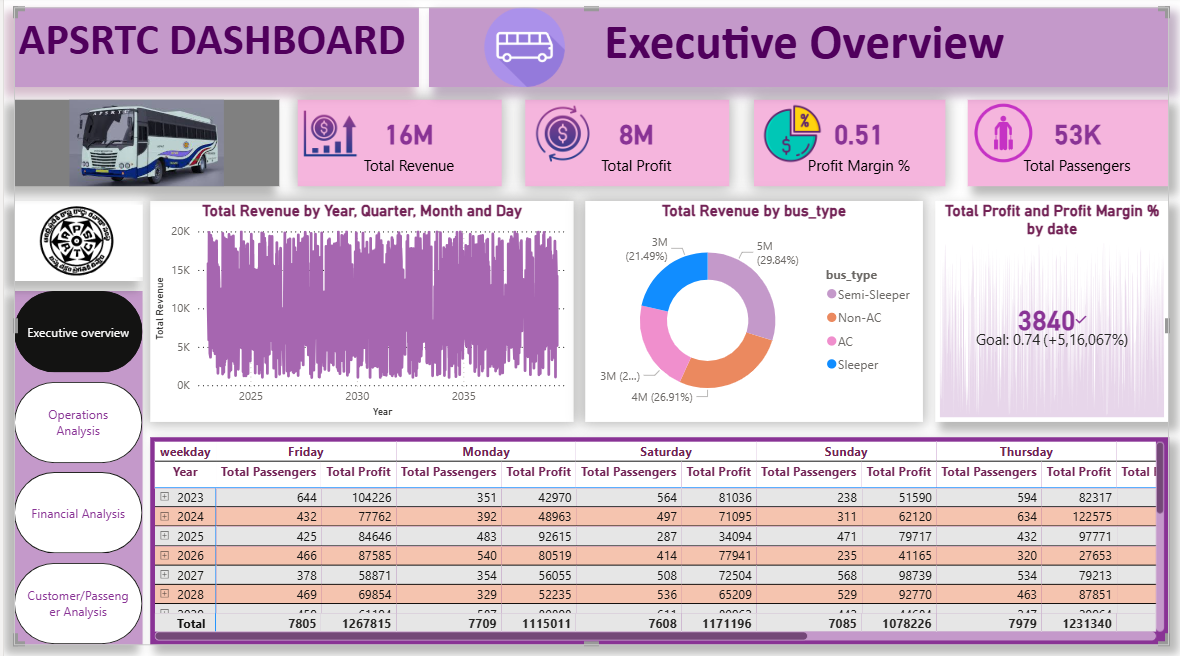

This screenshot's page, from the dashboard's own definition file:
{"tool":"powerbi","page":{"name":"Executive overview","canvas":[1280,720],"ordinal":0},"visuals":[{"type":"card","fields":{"Values":["fact_trips.Total Passengers"]},"box":[1044,112.3,216.5,93.4],"z":0,"group":"g1"},{"type":"card","fields":{"Values":["fact_trips.Total Revenue"]},"box":[318,112.3,220.6,93.4],"z":1000,"group":"g1"},{"type":"card","fields":{"Values":["fact_trips.Total Profit"]},"box":[564.3,112.3,220.6,93.4],"z":2000,"group":"g1"},{"type":"card","fields":{"Values":["fact_trips.Profit Margin %"]},"box":[812,112.3,207.1,93.4],"z":3000,"group":"g1"},{"type":"lineChart","fields":{"Category":["dim_dates.date.Variation.Date Hierarchy.Year","dim_dates.date.Variation.Date Hierarchy.Quarter","dim_dates.date.Variation.Date Hierarchy.Month","dim_dates.date.Variation.Date Hierarchy.Day"],"Y":["fact_trips.Total Revenue"]},"box":[158.3,222,458.8,239.5],"z":4000,"group":"g1"},{"type":"donutChart","fields":{"Category":["dim_buses.bus_type"],"Y":["fact_trips.Total Revenue"]},"box":[629.3,222,365.4,239.5],"z":5000,"group":"g1"},{"type":"kpi","fields":{"TrendLine":["dim_dates.date"],"Indicator":["fact_trips.Total Profit"],"Goal":["fact_trips.Profit Margin %"]},"box":[1008.2,222,253.1,239.5],"z":6000,"group":"g1"},{"type":"pivotTable","fields":{"Rows":["dim_dates.date.Variation.Date Hierarchy.Year","dim_dates.date.Variation.Date Hierarchy.Quarter","dim_dates.date.Variation.Date Hierarchy.Month","dim_dates.date.Variation.Date Hierarchy.Day"],"Columns":["dim_dates.weekday"],"Values":["fact_trips.Total Passengers","fact_trips.Total Profit"]},"box":[158.3,477.8,1103,224.7],"z":7000,"group":"g1"},{"type":"textbox","box":[460.1,12.2,801.2,86.6],"z":8000,"group":"g1"},{"type":"textbox","box":[10.8,12.2,438.5,86.6],"z":9000,"group":"g1"},{"type":"image","box":[10.8,112.3,286.9,93.4],"z":10000,"group":"g1"},{"type":"pageNavigator","box":[10.8,319.4,139.4,383],"z":11000,"group":"g1"},{"type":"image","box":[10.8,222,139.4,86.6],"z":12000,"group":"g1"},{"type":"image","box":[1044.8,112.3,74.4,71.7],"z":12001,"group":"g1"},{"type":"image","box":[812,117.8,82.6,62.3],"z":12002,"group":"g1"},{"type":"image","box":[569.7,117.8,70.4,62.3],"z":12003,"group":"g1"},{"type":"image","box":[318,117.8,70.4,62.3],"z":12004,"group":"g1"},{"type":"image","box":[508.8,12.2,109.6,86.6],"z":12005,"group":"g1"},{"type":"group","id":"g1","title":"Group 1","box":[10.8,12.2,1250.5,690.2],"z":12006}]}

Visuals, with their boxes in screenshot pixels (x1, y1, x2, y2), scaled from the page's 1280x720 canvas onto the 1180x656 screenshot:
card - fact_trips.Total Passengers: box(962, 102, 1162, 187)
card - fact_trips.Total Revenue: box(293, 102, 497, 187)
card - fact_trips.Total Profit: box(520, 102, 724, 187)
card - fact_trips.Profit Margin %: box(749, 102, 939, 187)
lineChart - dim_dates.date.Variation.Date Hierarchy.Year x dim_dates.date.Variation.Date Hierarchy.Quarter: box(146, 202, 569, 420)
donutChart - dim_buses.bus_type x fact_trips.Total Revenue: box(580, 202, 917, 420)
kpi - dim_dates.date x fact_trips.Total Profit: box(929, 202, 1163, 420)
pivotTable - dim_dates.date.Variation.Date Hierarchy.Year x dim_dates.date.Variation.Date Hierarchy.Quarter: box(146, 435, 1163, 640)
textbox: box(424, 11, 1163, 90)
textbox: box(10, 11, 414, 90)
image: box(10, 102, 274, 187)
pageNavigator: box(10, 291, 138, 640)
image: box(10, 202, 138, 281)
image: box(963, 102, 1032, 168)
image: box(749, 107, 825, 164)
image: box(525, 107, 590, 164)
image: box(293, 107, 358, 164)
image: box(469, 11, 570, 90)
"Group 1" group: box(10, 11, 1163, 640)
